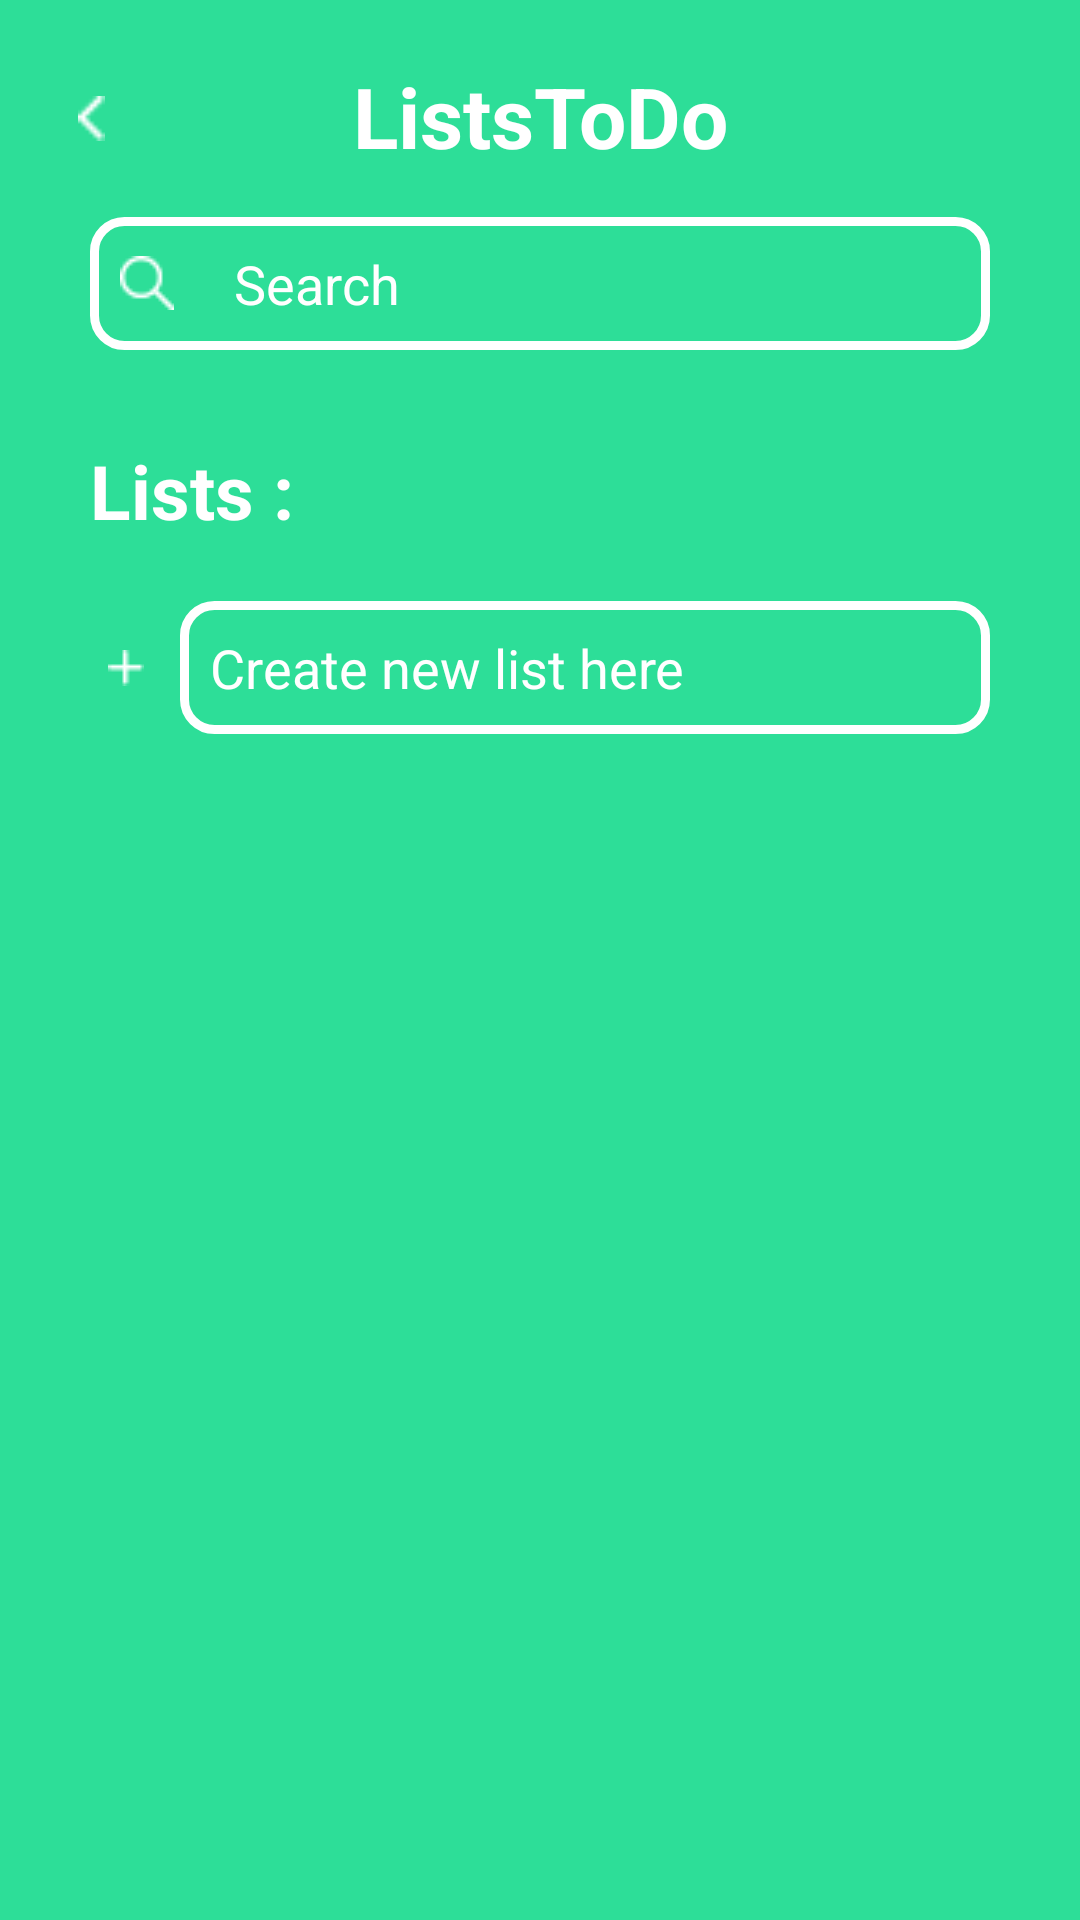

Icons on this 1080 × 1920 Android screen, each with the point to tap as point (x, y):
back: point (91, 118)
